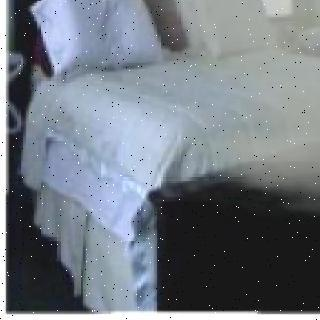smoke: (161, 0, 320, 201)
